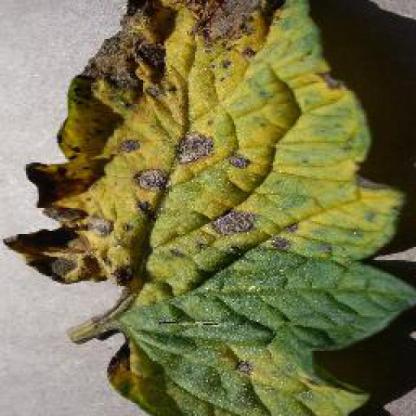Tomato_Blight: (9, 0, 372, 416)
